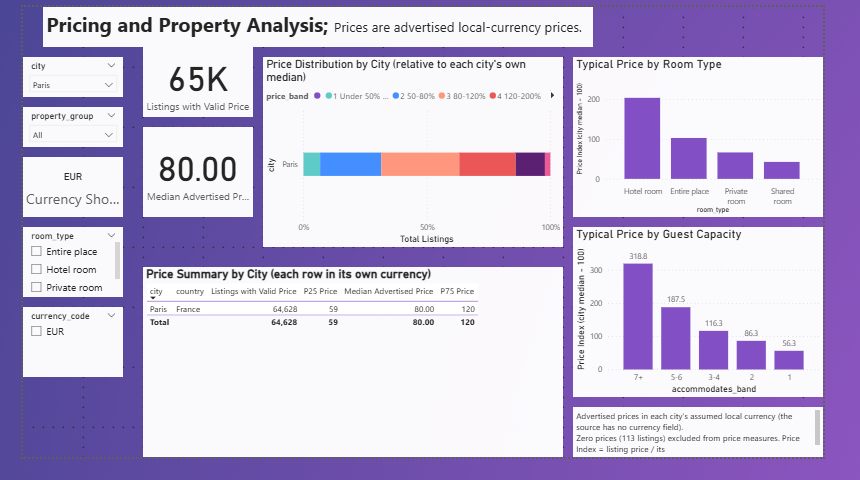

This screenshot's page, from the dashboard's own definition file:
{"tool":"powerbi","page":{"name":"Pricing and Property","canvas":[1280,720],"ordinal":2},"visuals":[{"type":"slicer","fields":{"Values":["dim_city.city"]},"box":[0,80,160,64],"z":0},{"type":"slicer","fields":{"Values":["dim_listing.room_type"]},"box":[0,352,160,112],"z":1000},{"type":"slicer","fields":{"Values":["dim_listing.property_group"]},"box":[0,160,160,64],"z":2000},{"type":"slicer","fields":{"Values":["dim_city.currency_code"]},"box":[0,480,160,112],"z":3000},{"type":"textbox","box":[32,0,880,64],"z":4000},{"type":"card","fields":{"Values":["dim_listing.Currency Shown"]},"box":[0,240,160,96],"z":5000},{"type":"card","fields":{"Values":["dim_listing.Median Advertised Price"]},"box":[192,192,176,144],"z":6000},{"type":"card","fields":{"Values":["dim_listing.Listings with Valid Price"]},"box":[192,64,176,112],"z":7000},{"type":"tableEx","title":"Price Summary by City (each row in its own currency)","fields":{"Values":["dim_city.city","dim_city.country","dim_listing.Listings with Valid Price","dim_listing.P25 Price","dim_listing.Median Advertised Price","dim_listing.P75 Price"]},"box":[192,416,672,304],"z":8000},{"type":"hundredPercentStackedBarChart","title":"Price Distribution by City (relative to each city''s own median)","fields":{"Category":["dim_city.city"],"Series":["dim_listing.price_band"],"Y":["dim_listing.Total Listings"]},"box":[384,80,480,304],"z":9000},{"type":"clusteredColumnChart","title":"Typical Price by Room Type ","fields":{"Category":["dim_listing.room_type"],"Y":["dim_listing.Price Index (city median - 100)"]},"box":[880,80,400,256],"z":10000},{"type":"clusteredColumnChart","title":"Typical Price by Guest Capacity","fields":{"Category":["dim_listing.accommodates_band"],"Y":["dim_listing.Price Index (city median - 100)"]},"box":[880,352,400,272],"z":11000},{"type":"textbox","box":[880,640,400,80],"z":12000}]}

Visuals, with their boxes in screenshot pixels (x1, y1, x2, y2), scaled from the page's 1280x720 canvas onto the 860x480 screenshot:
slicer - dim_city.city: x1=0, y1=53, x2=108, y2=96
slicer - dim_listing.room_type: x1=0, y1=235, x2=108, y2=309
slicer - dim_listing.property_group: x1=0, y1=107, x2=108, y2=149
slicer - dim_city.currency_code: x1=0, y1=320, x2=108, y2=395
textbox: x1=22, y1=0, x2=613, y2=43
card - dim_listing.Currency Shown: x1=0, y1=160, x2=108, y2=224
card - dim_listing.Median Advertised Price: x1=129, y1=128, x2=247, y2=224
card - dim_listing.Listings with Valid Price: x1=129, y1=43, x2=247, y2=117
"Price Summary by City (each row in its own currency)" tableEx: x1=129, y1=277, x2=580, y2=479
"Price Distribution by City (relative to each city''s own median)" hundredPercentStackedBarChart: x1=258, y1=53, x2=580, y2=256
"Typical Price by Room Type " clusteredColumnChart: x1=591, y1=53, x2=859, y2=224
"Typical Price by Guest Capacity" clusteredColumnChart: x1=591, y1=235, x2=859, y2=416
textbox: x1=591, y1=427, x2=859, y2=479
